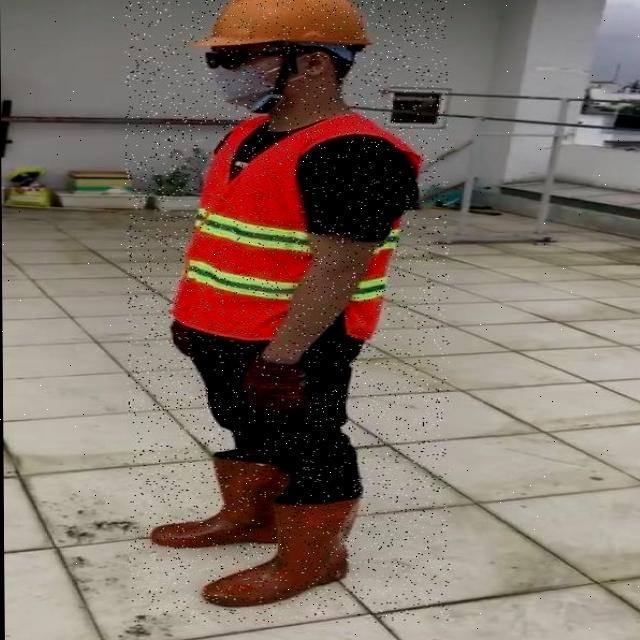Gloves: (241, 353, 312, 414)
Helmet: (187, 0, 376, 53)
Safety-Boot: (200, 493, 362, 607), (150, 452, 293, 548)
Safety-Vest: (167, 110, 425, 346)
